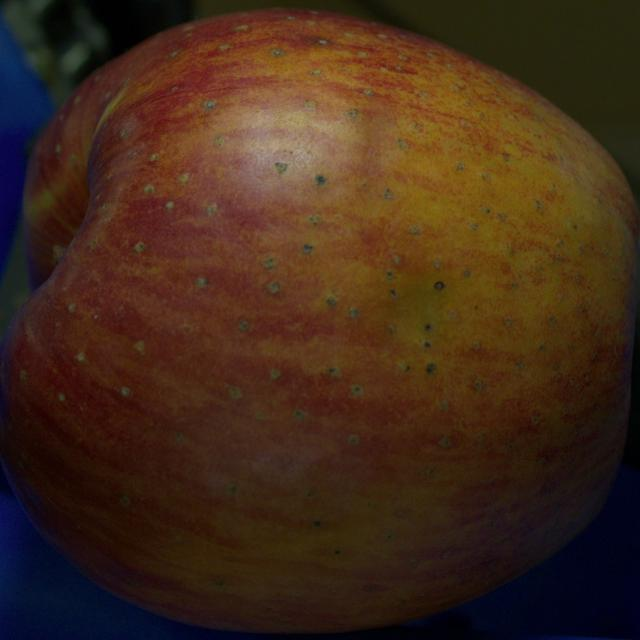apple: (0, 10, 639, 632)
bruise: (366, 260, 480, 387)
